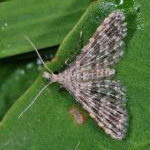Alucitidae: (15, 10, 132, 143)
moth: (13, 8, 130, 141)
